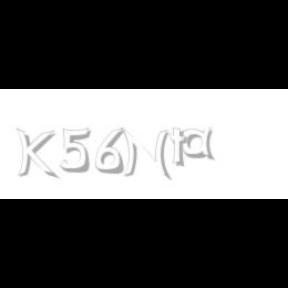5: (60, 128, 91, 174)
6: (96, 128, 124, 176)
K: (15, 128, 55, 180)
N: (120, 128, 170, 180)
a: (181, 128, 218, 160)
t: (170, 128, 192, 168)
